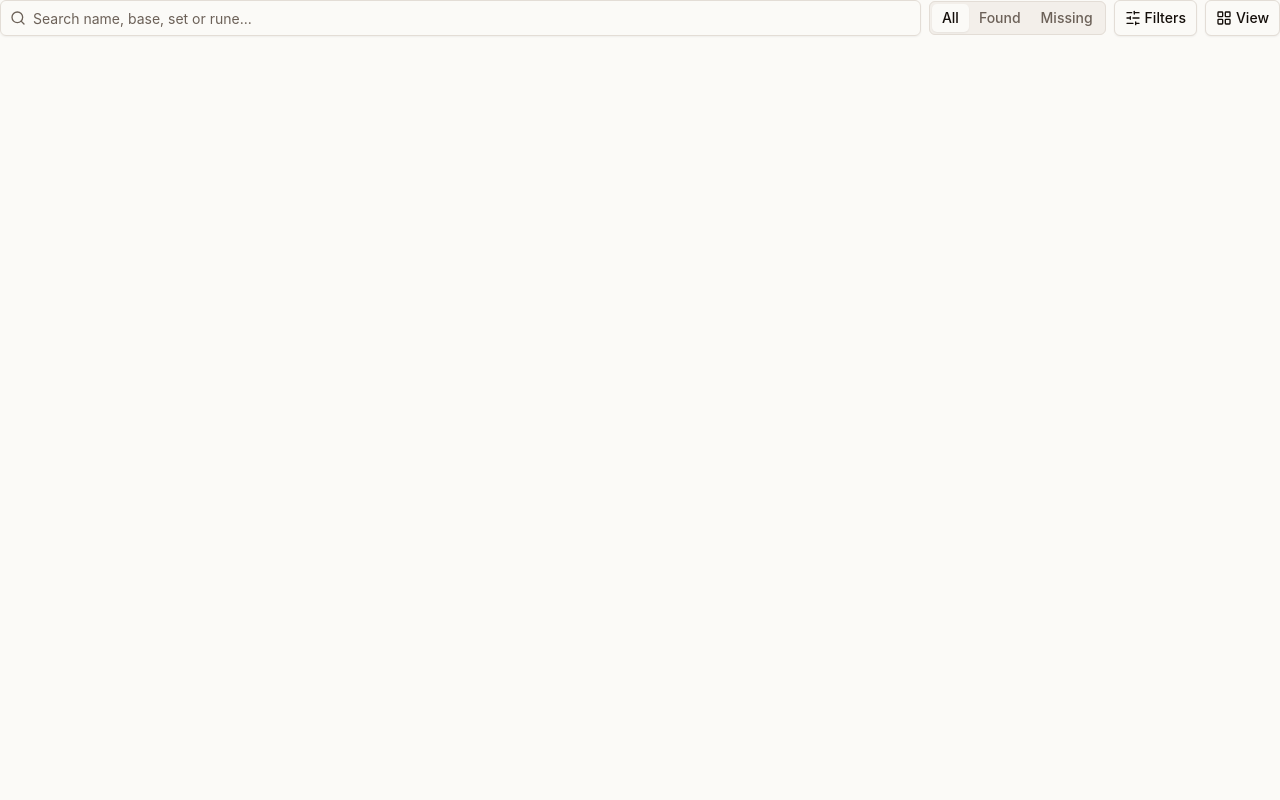
When AdvancedSearch toolbar is rendered › If user turns on fuzzy search in the filters popover › Then enables fuzzy search in the store and shows a fuzzy search chip
Click the button "Filters". click: x=1155, y=18
box: [1114,0,1197,36]
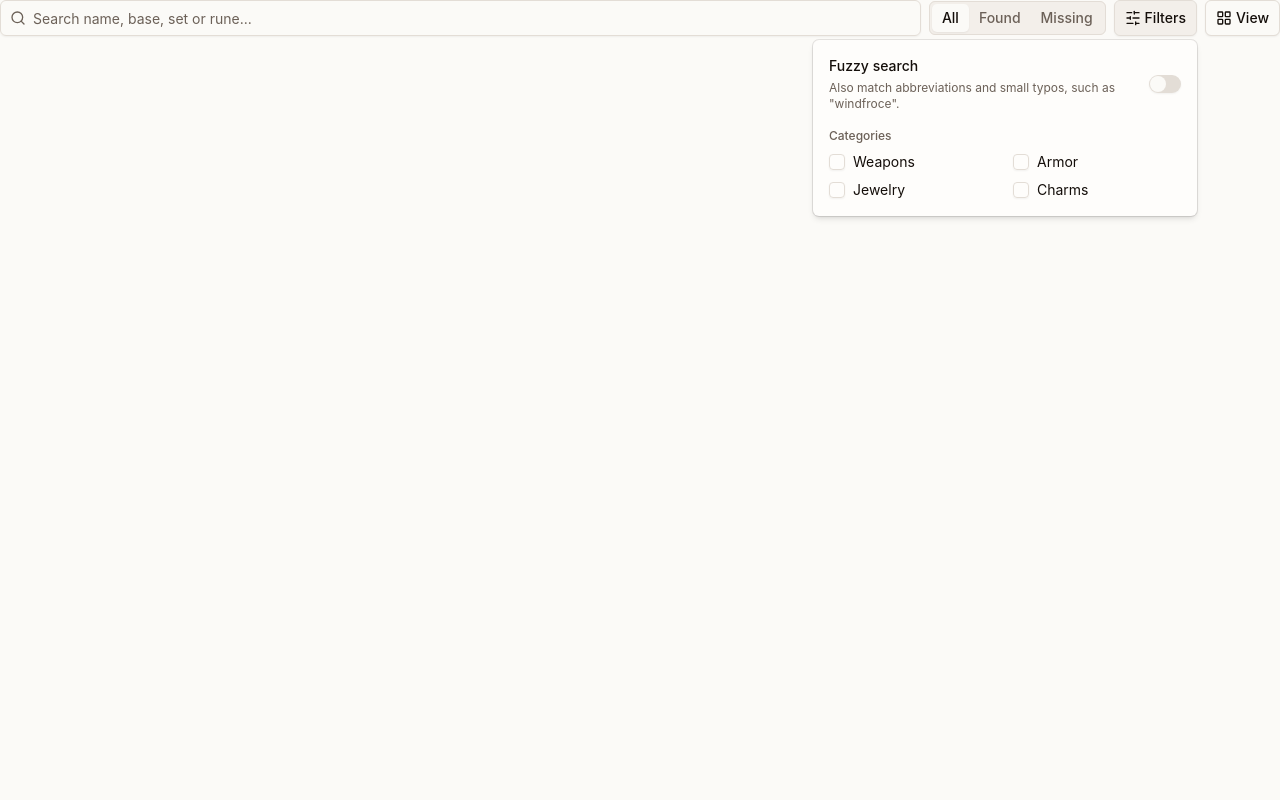
Click the switch named "Fuzzy search". click: x=1165, y=84
box: [1149,75,1181,93]
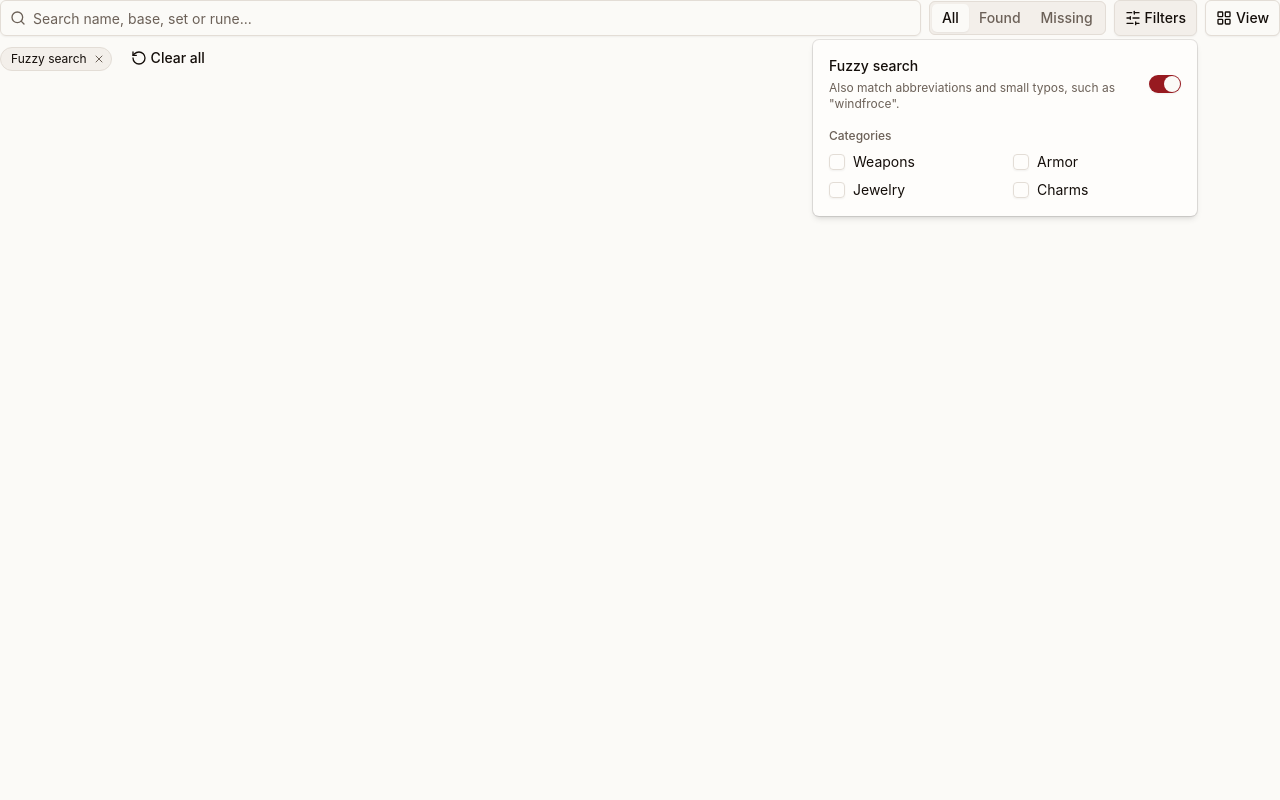
Now the text "Fuzzy search" is shown, box [11,51,87,67]
